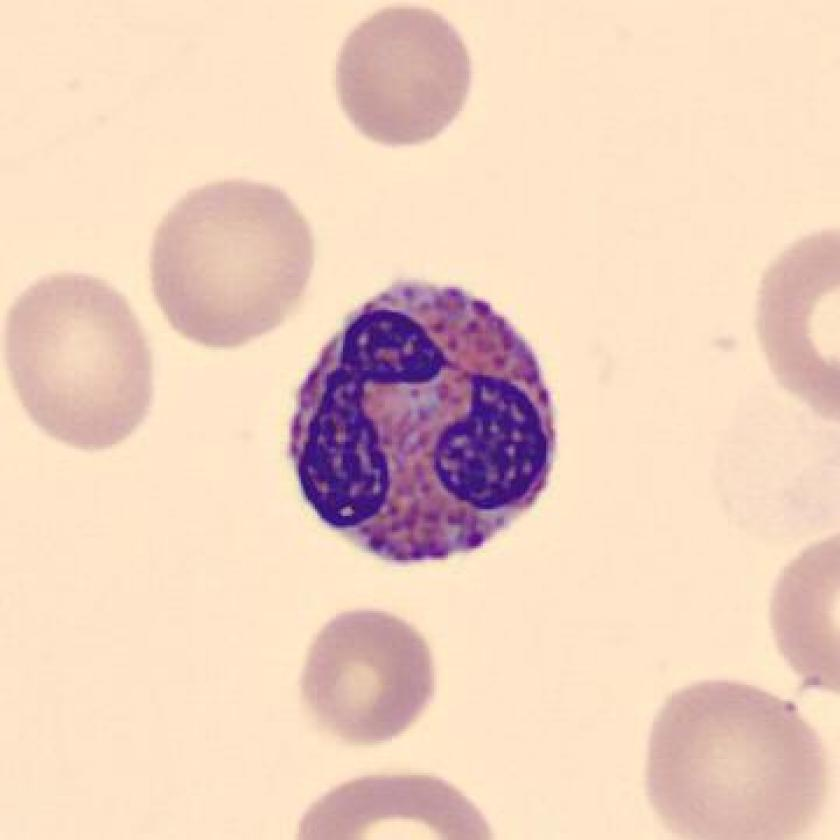eosinophil: (274, 263, 580, 587)
